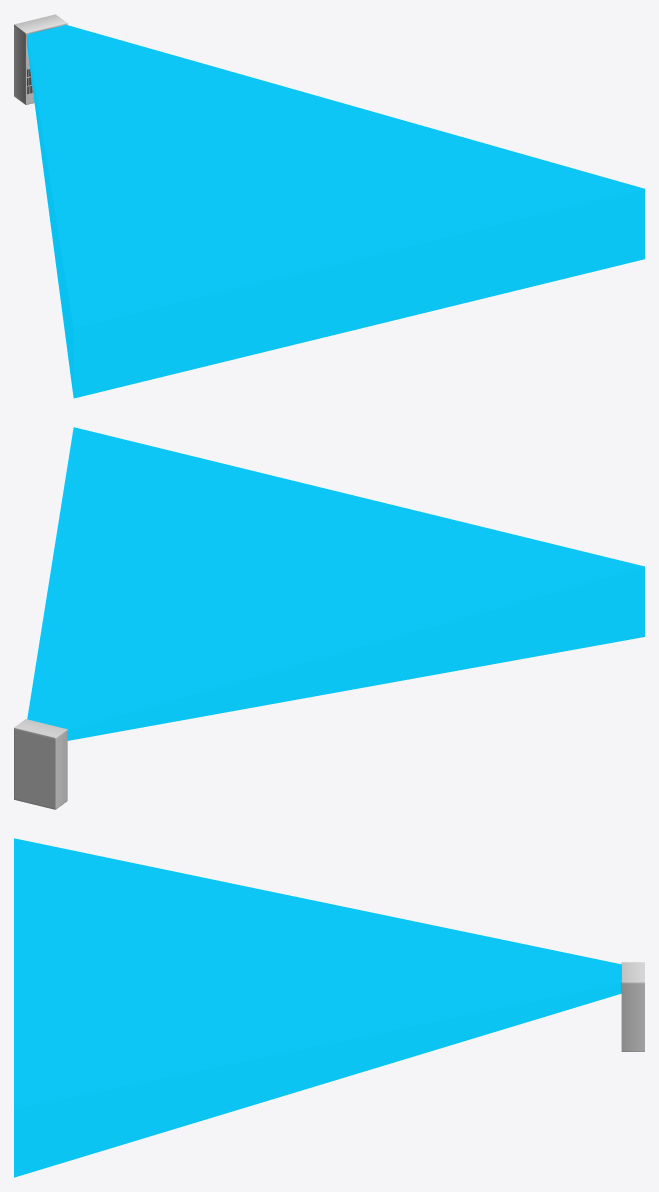
File: 20ton_AC_CC.gltf
3 views of the same model, one above another, from view 1: azimuth 30°, elevation 25°; view 2: azimuth 150°, elevation 25°; view 3: azimuth 270°, elevation 25° (orthographic). The views are drawn at different scales.
Visible parts, largest first — view 1: Cube.001, Cube.003; view 2: Cube.001, Cube.003; view 3: Cube.001, Cube.003.
Part boxes in pixels (left/top/right/bottom): Cube.001: left=27, top=25, right=644, bottom=398; Cube.003: left=14, top=14, right=67, bottom=104; Cube.001: left=27, top=427, right=644, bottom=740; Cube.003: left=14, top=719, right=67, bottom=809; Cube.001: left=14, top=838, right=621, bottom=1177; Cube.003: left=621, top=962, right=644, bottom=1051.
Size of the model in its own units: 204 by 24.6 by 201.
5 materials, 1 textured.
